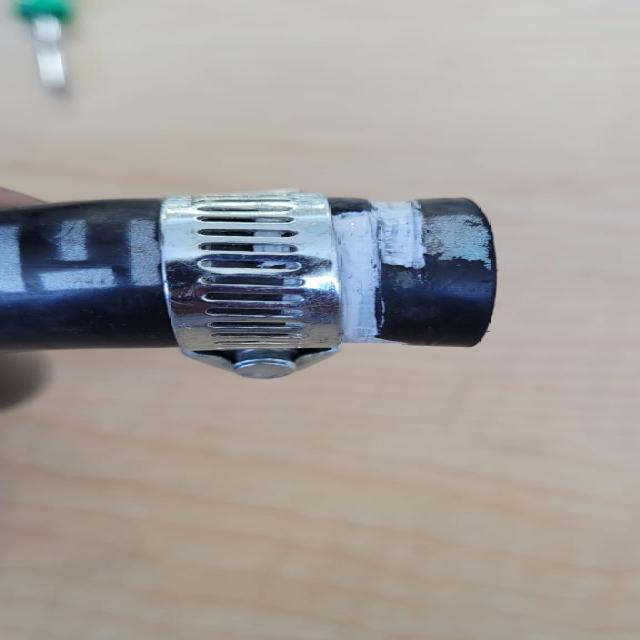clamp: (164, 196, 346, 379)
pipe: (336, 199, 488, 345)
